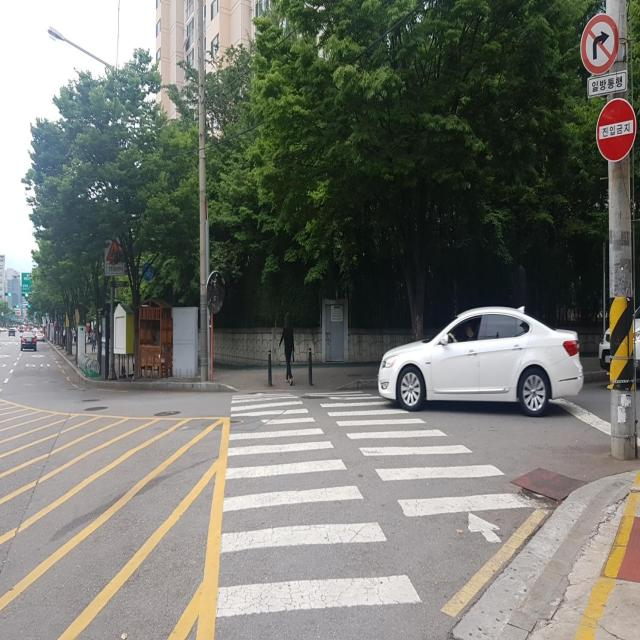횡단보도: (213, 388, 551, 622)
